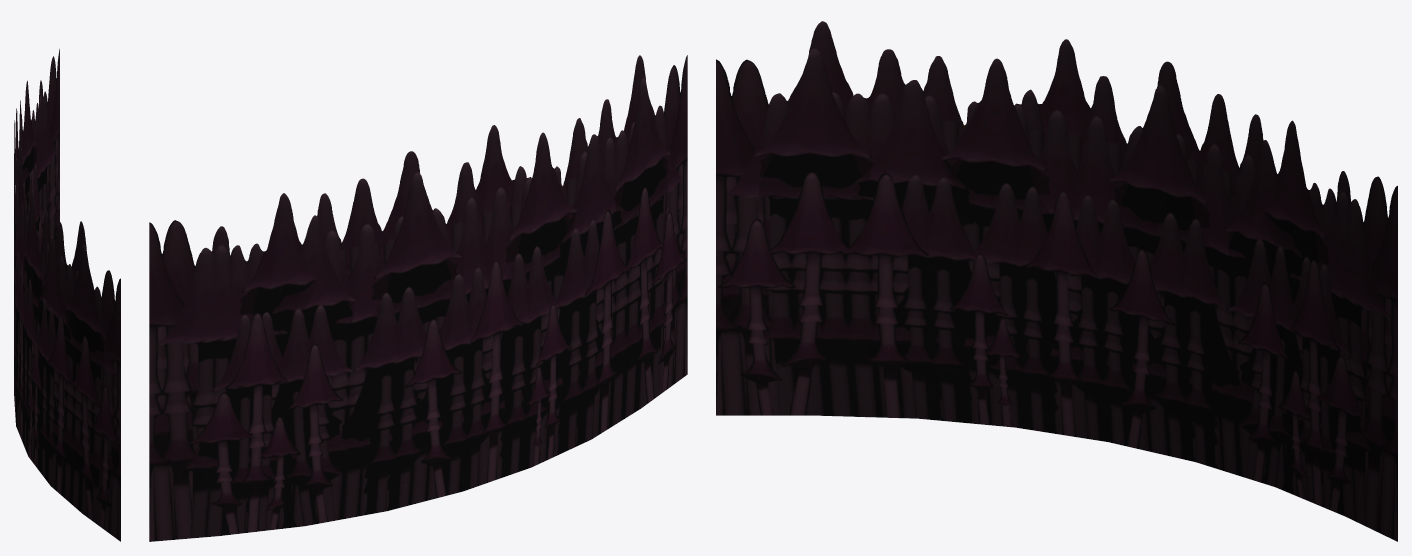
File: Bosque_setas_Judy.fbx
3 views of the same model, side by side, from view 1: azimuth 30°, elevation 25°; view 2: azimuth 150°, elevation 25°; view 3: azimuth 270°, elevation 25° (orthographic). The views are drawn at different scales.
Parts seen in each view (by area): view 1: pPlane1; view 2: pPlane1; view 3: pPlane1.
Part boxes in pixels (x1,y1,x2,y2): pPlane1: (14, 49, 120, 541); pPlane1: (149, 55, 687, 541); pPlane1: (716, 21, 1397, 541).
Bounding box in the file's own units: 79.22 × 118 × 181.
1 material, 1 textured.
